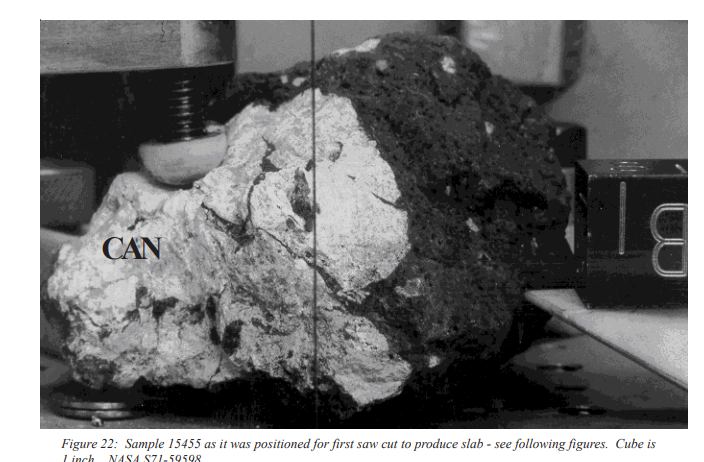Breccia: (89, 101, 582, 411), (291, 38, 569, 394)
